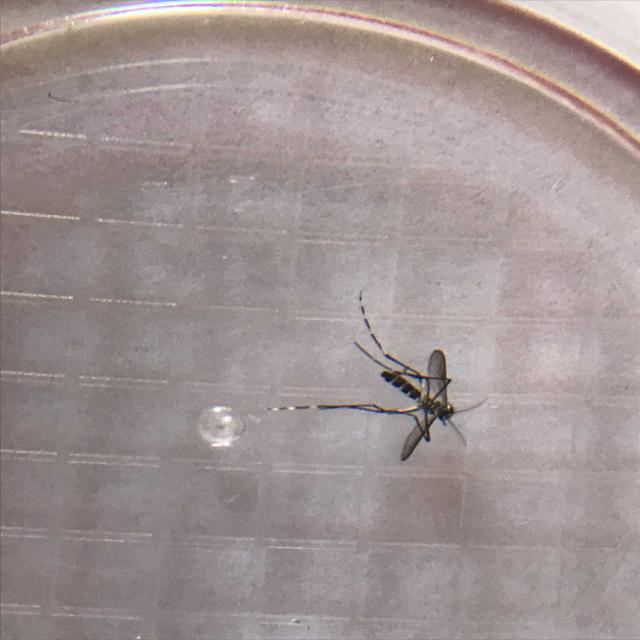albopictus: (250, 284, 493, 466)
